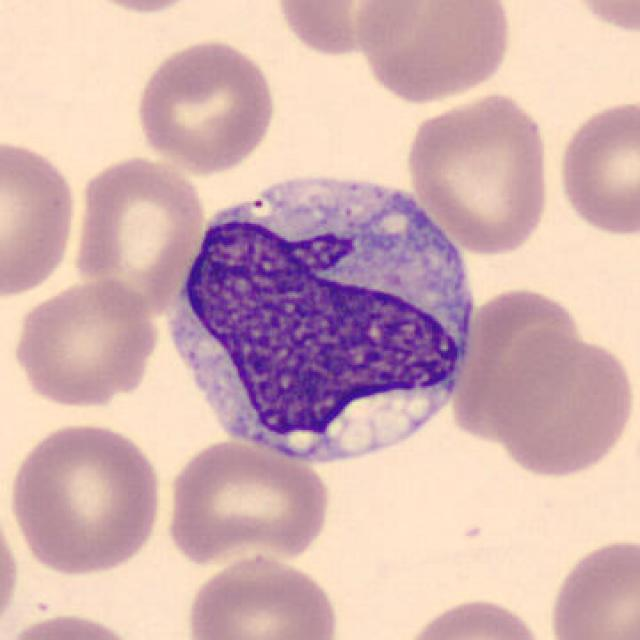Monocyte: (156, 159, 484, 476)
RBC: (402, 88, 554, 258), (6, 418, 166, 578), (160, 436, 334, 572), (68, 152, 208, 321), (484, 328, 636, 479), (450, 282, 585, 441), (7, 277, 162, 411), (132, 35, 279, 175), (352, 0, 517, 106), (183, 552, 343, 640), (0, 134, 80, 303), (553, 95, 638, 240), (544, 532, 638, 640), (271, 0, 428, 58), (396, 592, 553, 640), (2, 608, 146, 640), (0, 496, 23, 636), (558, 0, 640, 37), (64, 0, 212, 16)
